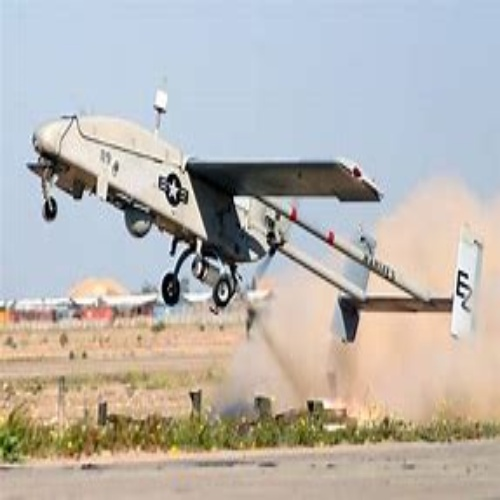uav301: (23, 80, 480, 349)
